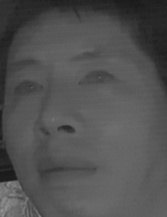eye: (76, 67, 116, 88), (13, 77, 44, 99)
mouth: (35, 152, 97, 187)
